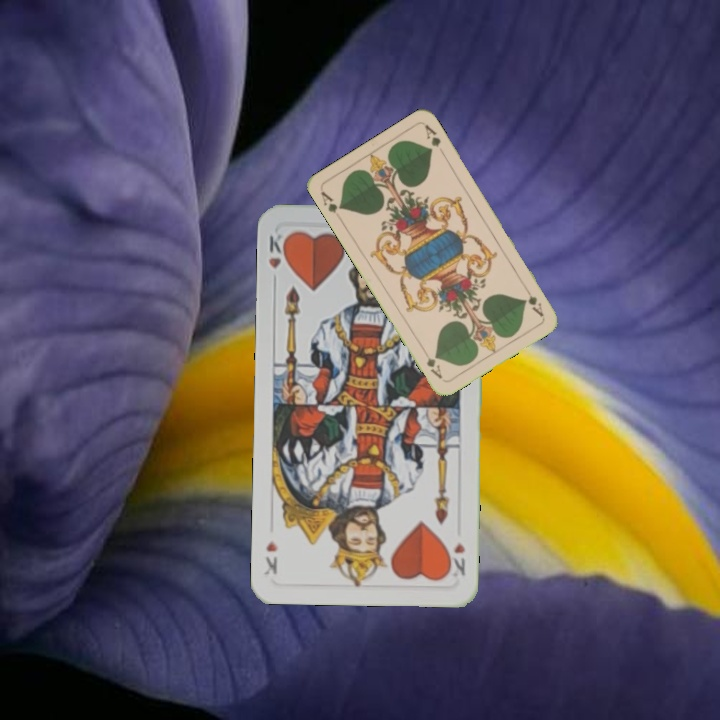GA: (520, 282, 547, 319), (316, 187, 345, 216)
HK: (264, 230, 291, 288), (443, 538, 468, 578)
